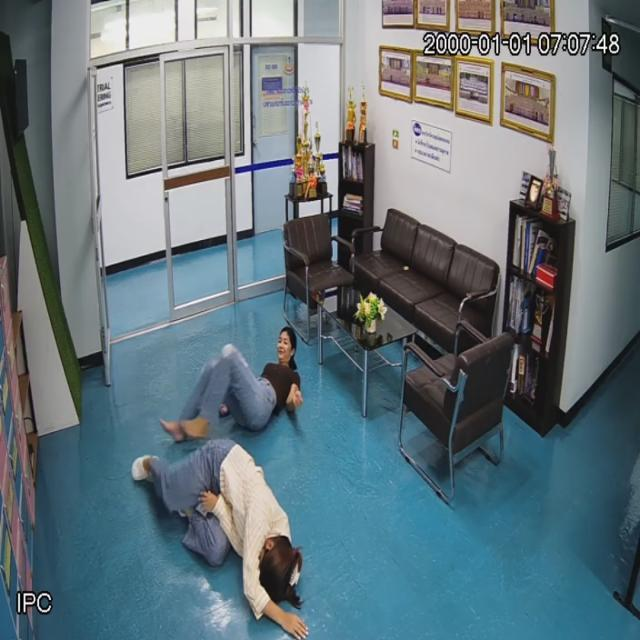fall: (138, 439, 318, 638), (166, 318, 306, 443)
